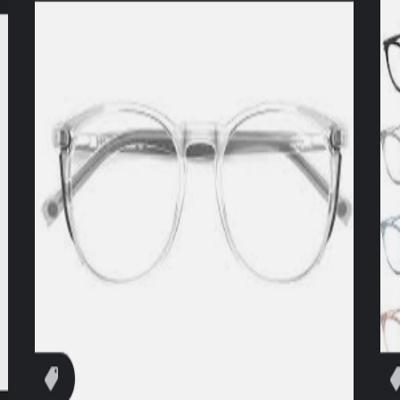glasses: (42, 98, 350, 293)
